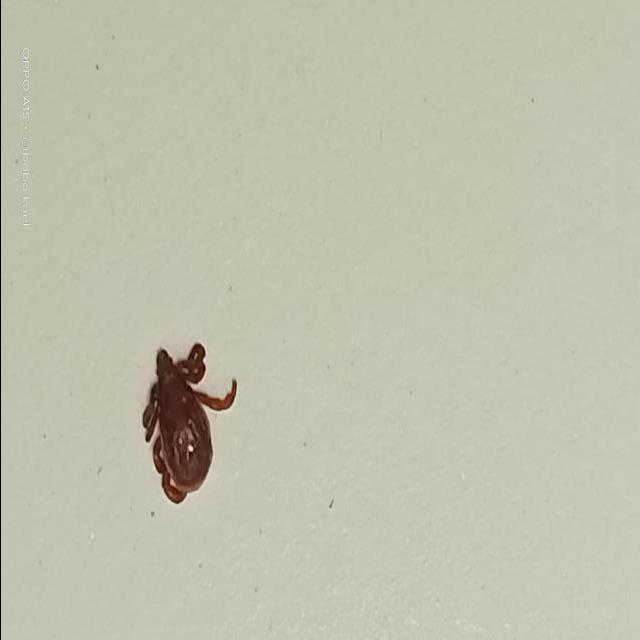Rhipicephalus Sanguineus-M: (139, 342, 236, 506)
